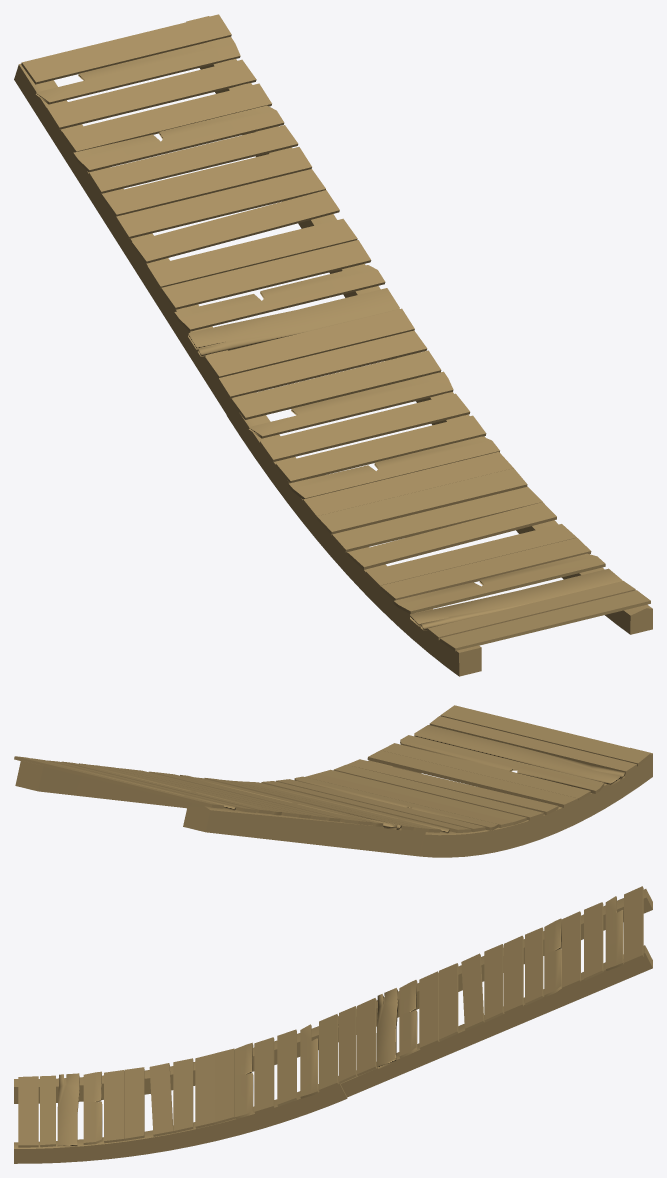
File: Road_Beam_Simple_03.fbx
3 renders of one model, top to bottom at view 1: azimuth 30°, elevation 25°; view 2: azimuth 150°, elevation 25°; view 3: azimuth 270°, elevation 25°, orthographic. The views are drawn at different scales.
Visible parts, largest first — view 1: Road_Beam_Simple_03; view 2: Road_Beam_Simple_03; view 3: Road_Beam_Simple_03.
Part boxes in pixels (box(x1,y1,x2,y2)): Road_Beam_Simple_03: box(14, 14, 652, 676); Road_Beam_Simple_03: box(14, 705, 652, 857); Road_Beam_Simple_03: box(14, 886, 652, 1163).
Bounding box in the file's own units: 148 × 205 × 566.
